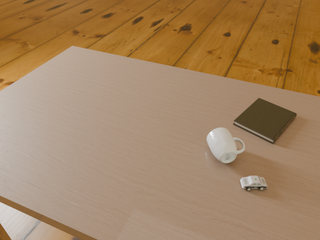book: (233, 98, 296, 144)
cup: (207, 128, 245, 163)
toy_car: (240, 176, 267, 191)
